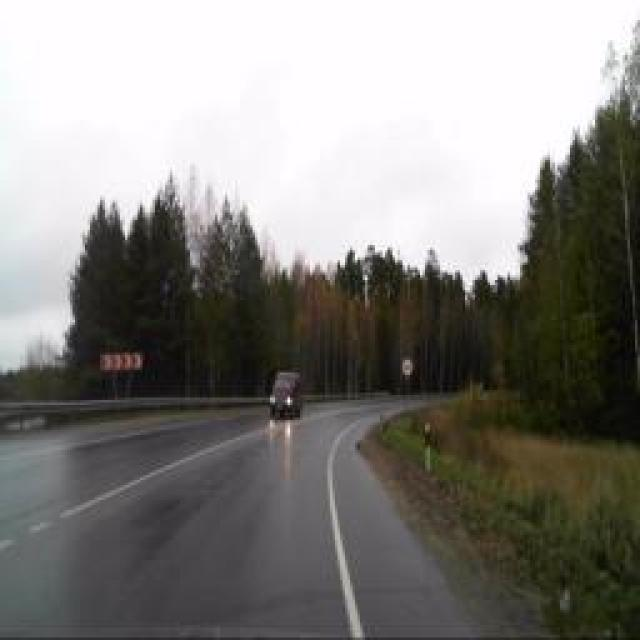sign: (401, 356, 414, 376)
